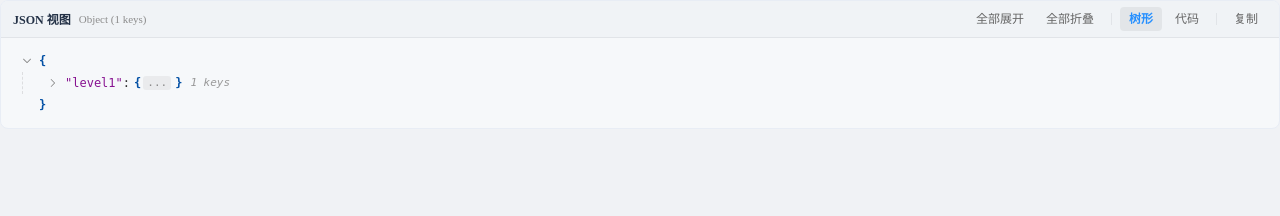
Scenario: JsonViewer & JsonTreeNode › supports expanding and collapsing in tree mode
Click the button with class "toolbar-btn" showing "全部展开". click: (1000,19)
box: left=967, top=7, right=1033, bottom=31
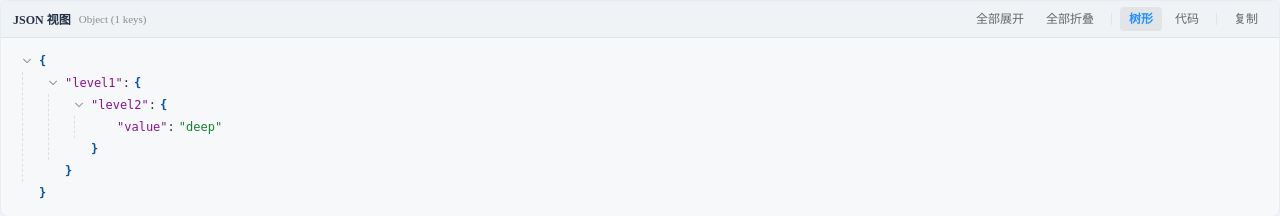
Check: the text "\"deep\"" is shown, box left=179, top=117, right=222, bottom=137
Click the button with class "toolbar-btn" showing "全部折叠". click: (1070,19)
box: left=1037, top=7, right=1103, bottom=31
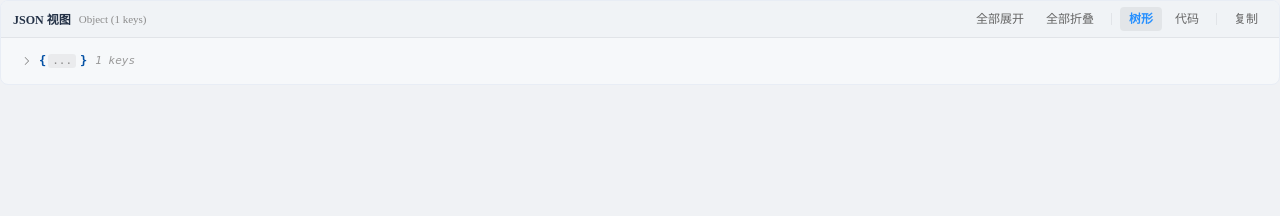
Check: the element with class "collapsed-preview" is shown, box left=46, top=51, right=135, bottom=71
